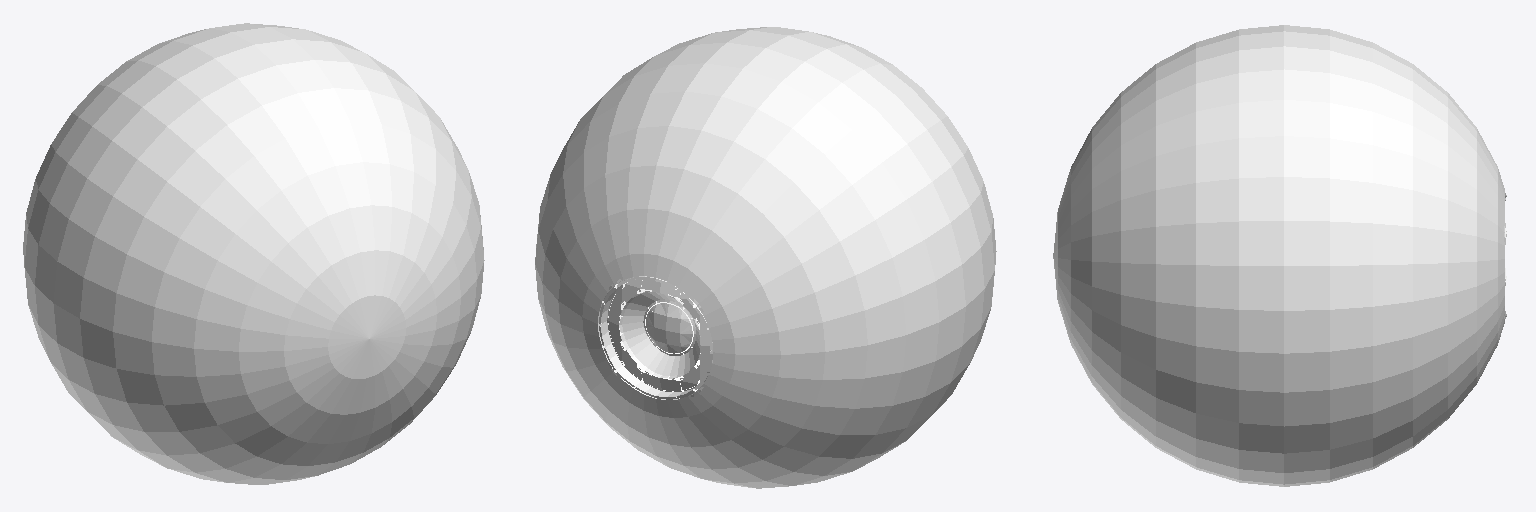
Rendered from tgef_01_military_station_small.obj.
3 renders of one model, left to right at view 1: azimuth 30°, elevation 25°; view 2: azimuth 150°, elevation 25°; view 3: azimuth 270°, elevation 25°, orthographic.
Visible parts, largest first — view 1: Sphere; view 2: Sphere; view 3: Sphere.
Boxes of the visible parts, <box> form: Sphere: <box>23,23,484,484</box>; Sphere: <box>535,27,996,488</box>; Sphere: <box>1053,25,1506,486</box>.
Bounding box in the file's own units: 0.0002 × 0.0002 × 0.0001.